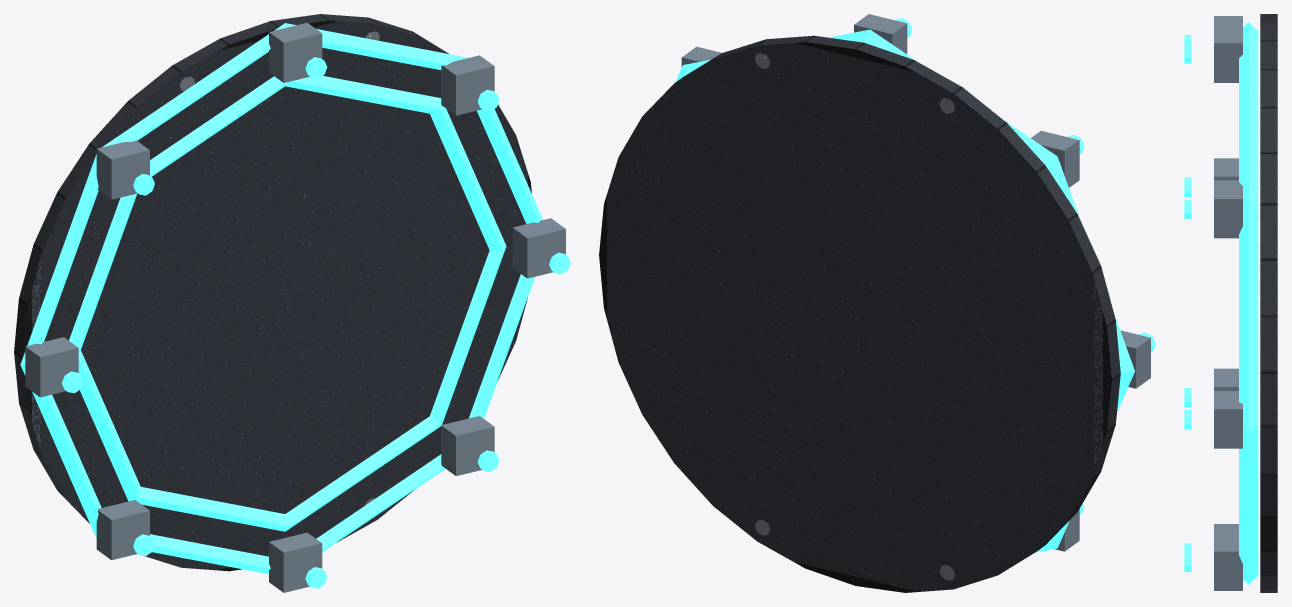
File: gate-low.glb
3 renders of one model, left to right at view 1: azimuth 30°, elevation 25°; view 2: azimuth 150°, elevation 25°; view 3: azimuth 270°, elevation 25°, orthographic. The views are drawn at different scales.
Parts seen in each view (by area): view 1: gate-root.001 / Ceramic graphite.013, gate-root.001 / Cyan instrumentation.013, gate-root.001 / Titanium edges.013; view 2: gate-root.001 / Ceramic graphite.013, gate-root.001 / Titanium edges.013, gate-root.001 / Cyan instrumentation.013; view 3: gate-root.001 / Cyan instrumentation.013, gate-root.001 / Ceramic graphite.013, gate-root.001 / Titanium edges.013.
Boxes of the visible parts, bbox=[...] form: gate-root.001 / Ceramic graphite.013: bbox=[14, 14, 531, 571]; gate-root.001 / Cyan instrumentation.013: bbox=[20, 23, 570, 588]; gate-root.001 / Titanium edges.013: bbox=[25, 22, 565, 592]; gate-root.001 / Ceramic graphite.013: bbox=[599, 35, 1120, 592]; gate-root.001 / Titanium edges.013: bbox=[681, 14, 1150, 551]; gate-root.001 / Cyan instrumentation.013: bbox=[675, 18, 1155, 552]; gate-root.001 / Cyan instrumentation.013: bbox=[1184, 22, 1258, 584]; gate-root.001 / Ceramic graphite.013: bbox=[1260, 14, 1277, 592]; gate-root.001 / Titanium edges.013: bbox=[1214, 16, 1242, 590].
Bounding box in the file's own units: 2.07 × 2.07 × 0.322.
3 materials, 1 textured.
